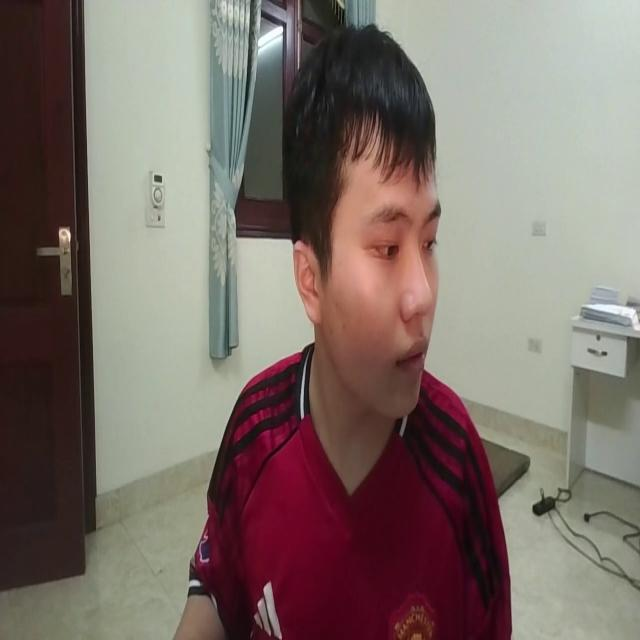student: (176, 19, 509, 640)
